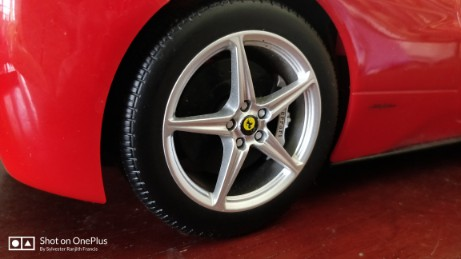aligned_wheel: (109, 1, 344, 240)
